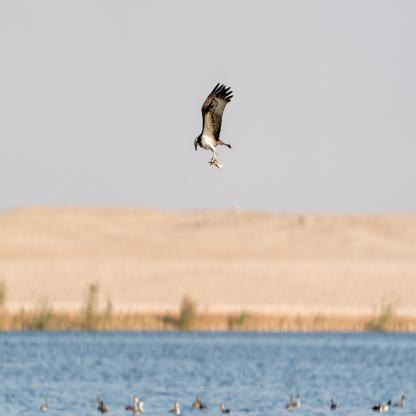bird: (194, 82, 233, 164)
